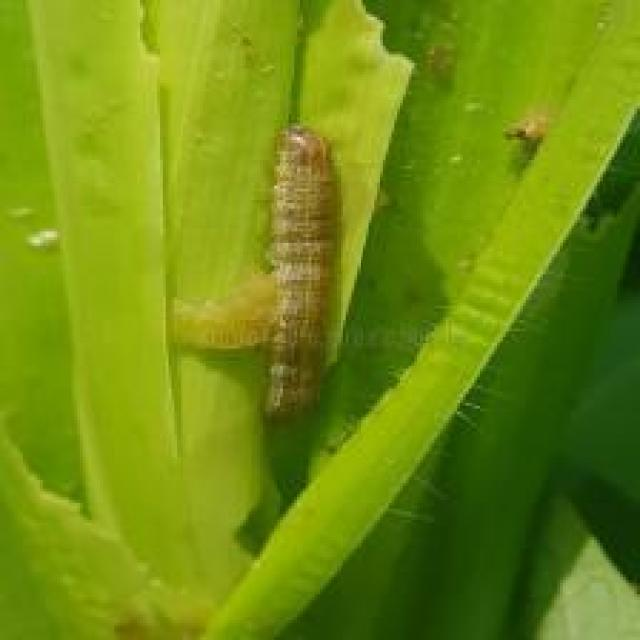pest: (275, 127, 338, 416)
